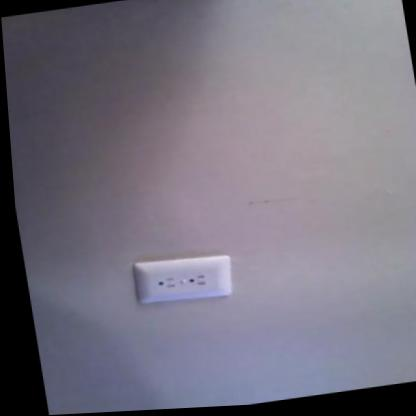OUTLET: (133, 253, 235, 306)
